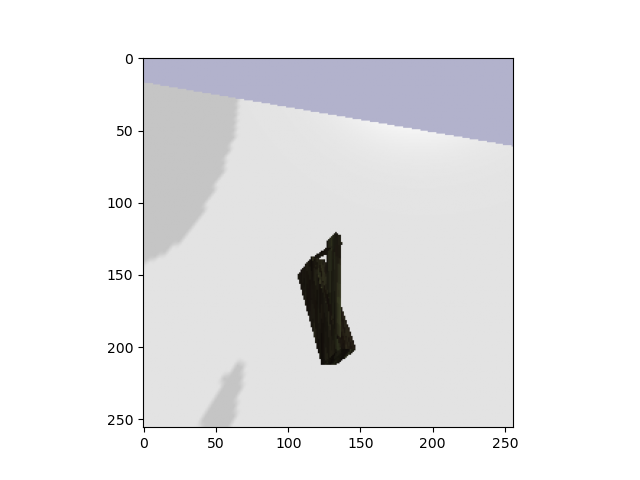v249b387_109: (280, 233, 367, 369)
